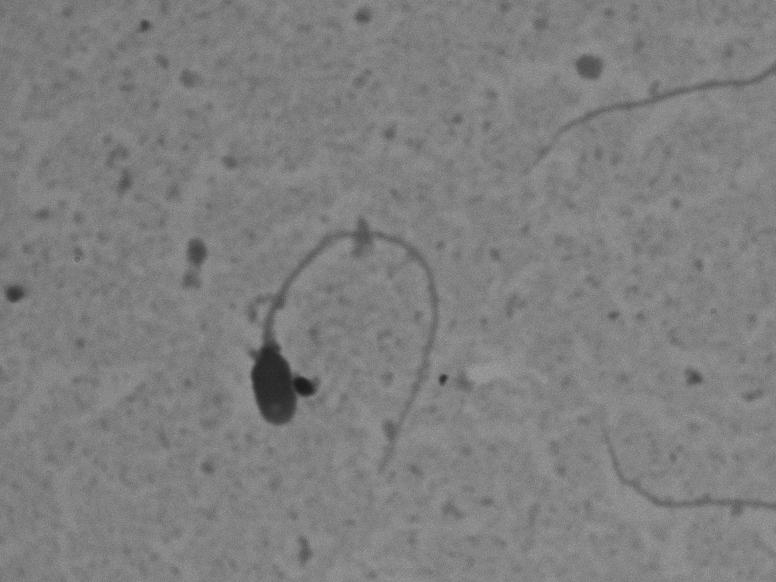Abnormal: (217, 214, 467, 478)
